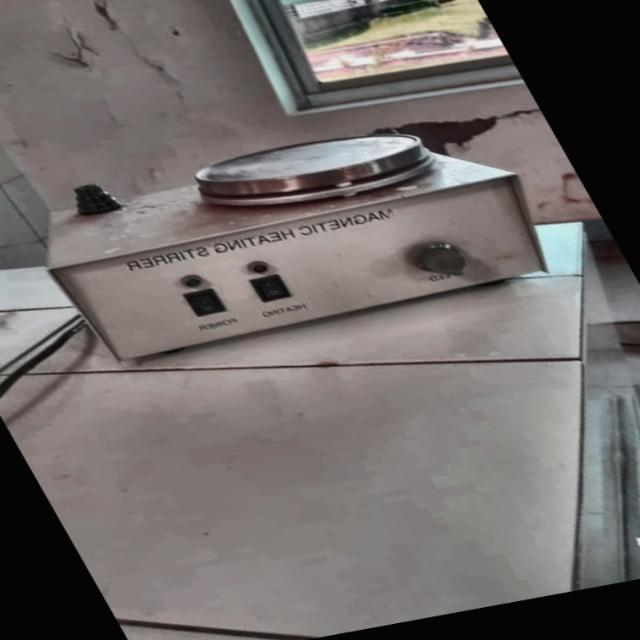Magnetic Stirrer: (4, 111, 582, 378)
